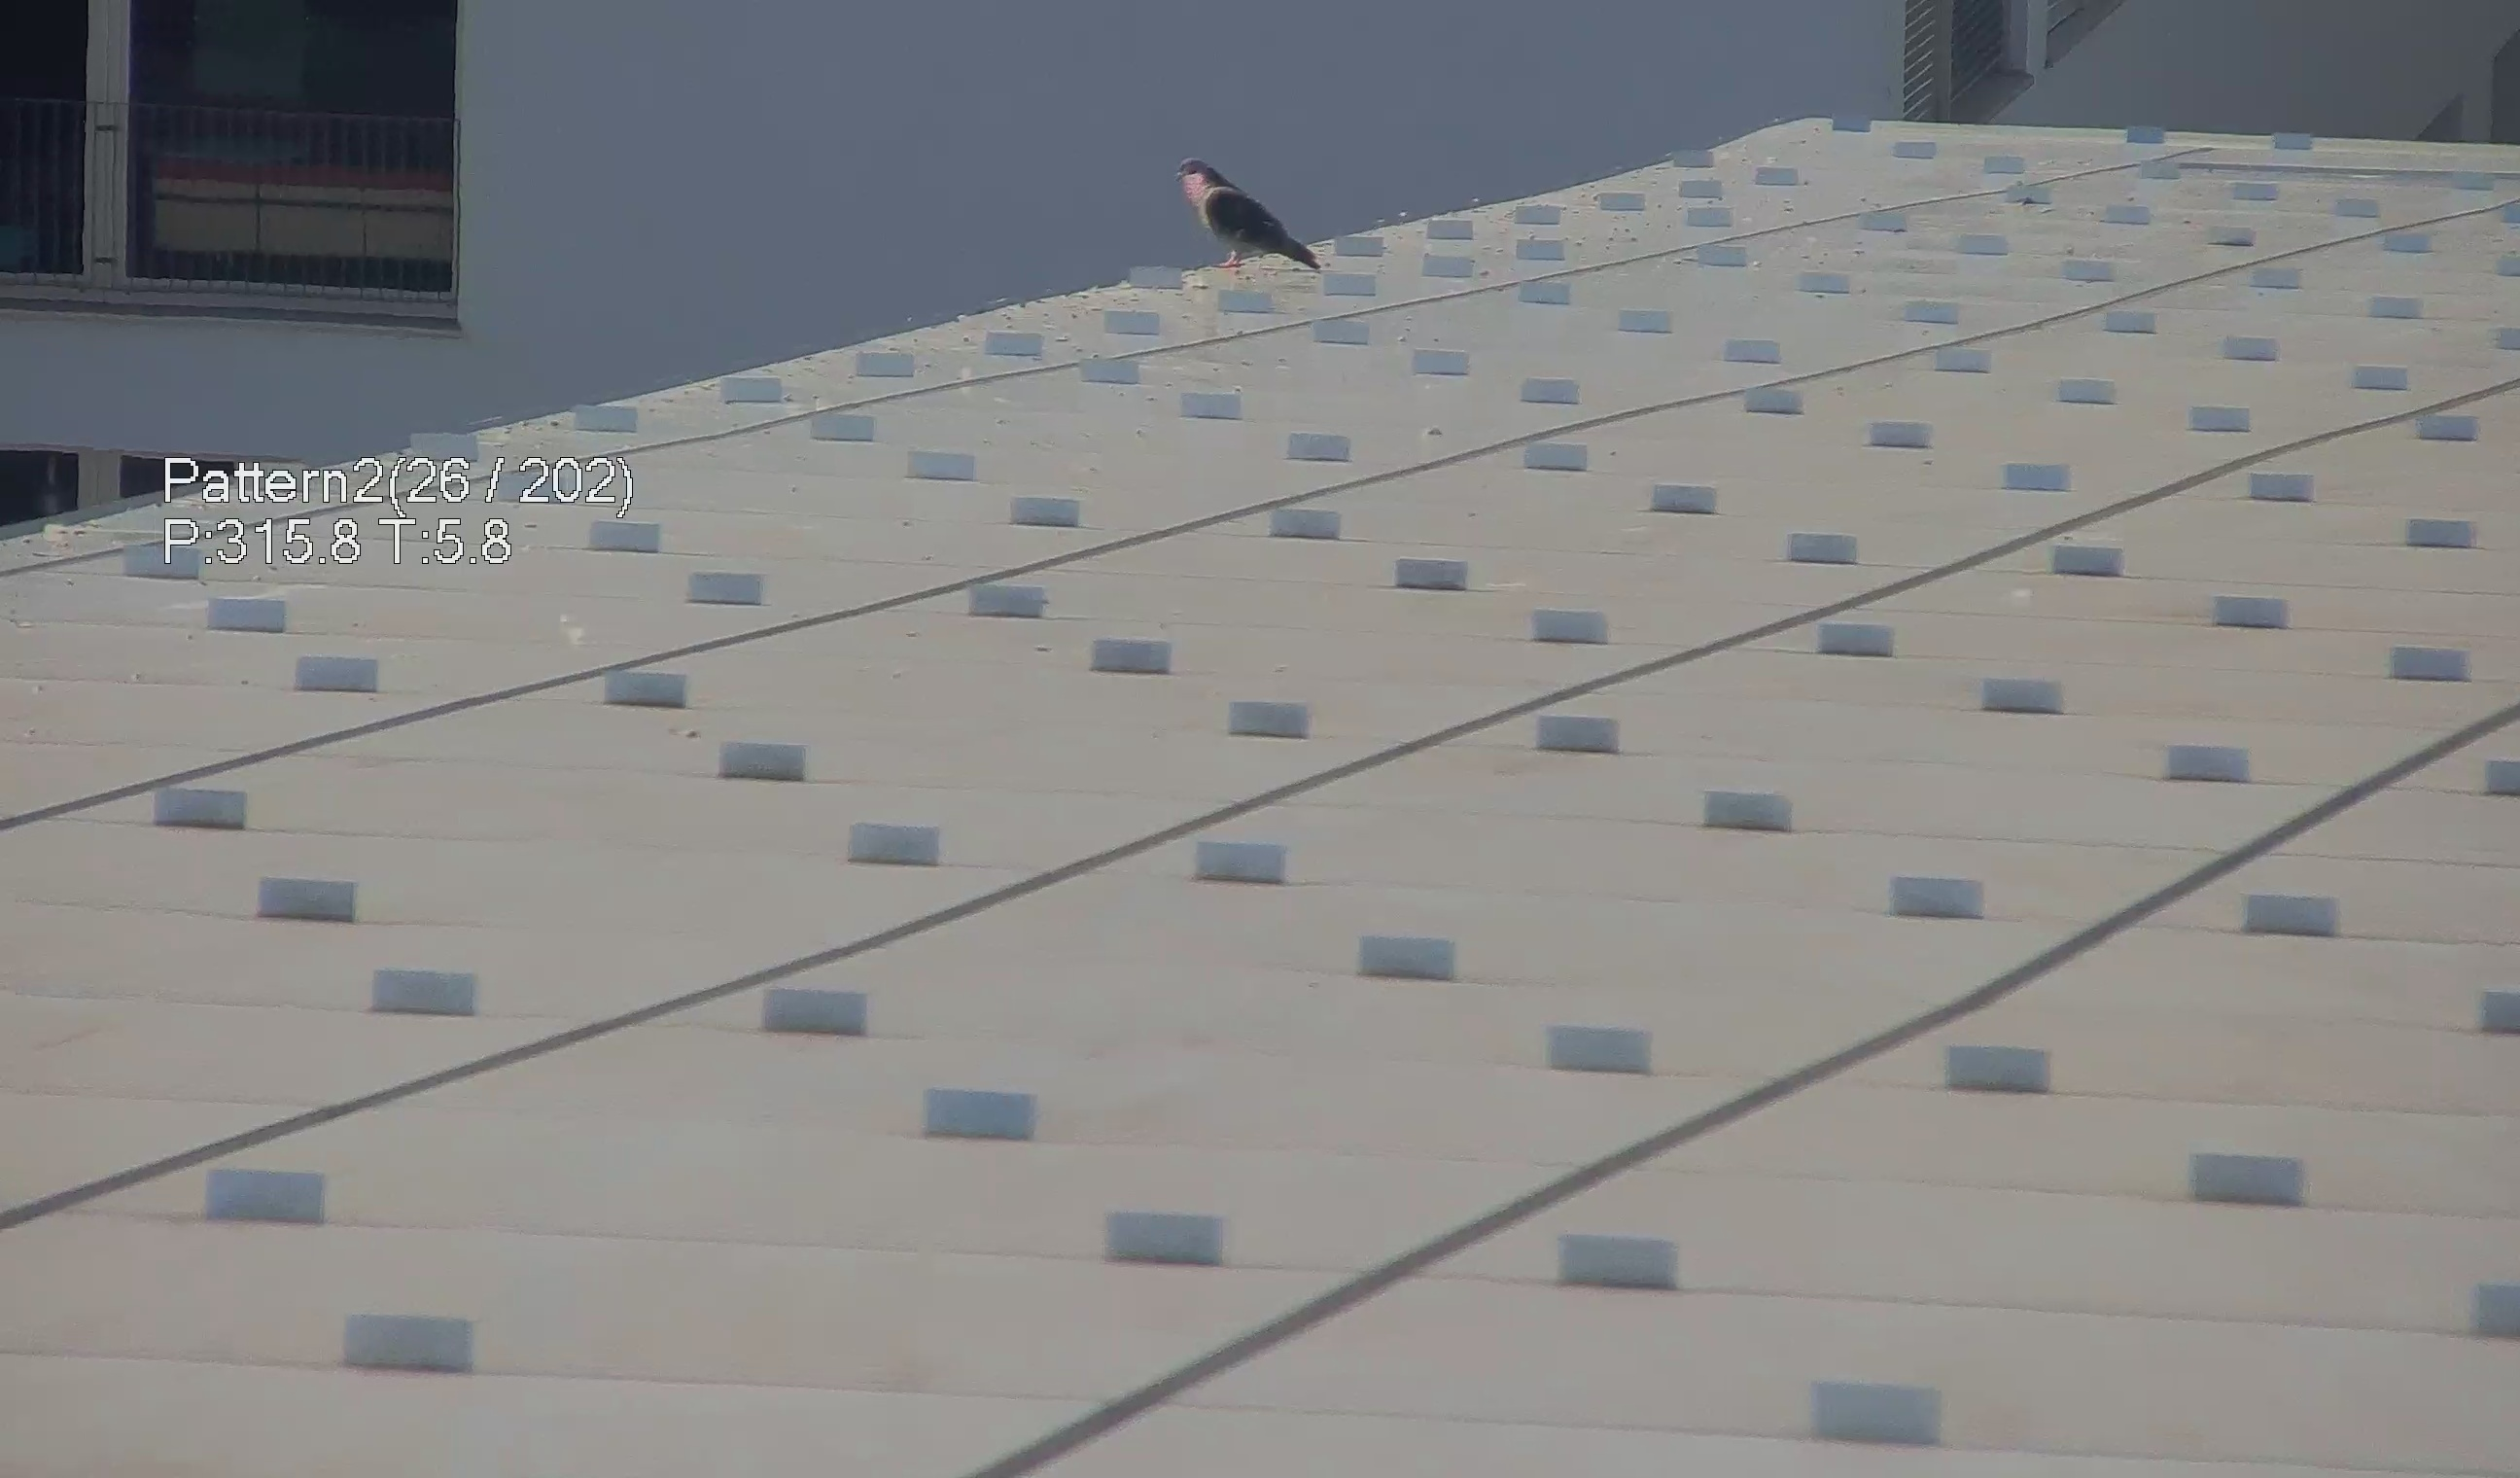Pigeon: (1169, 143, 1326, 276)
